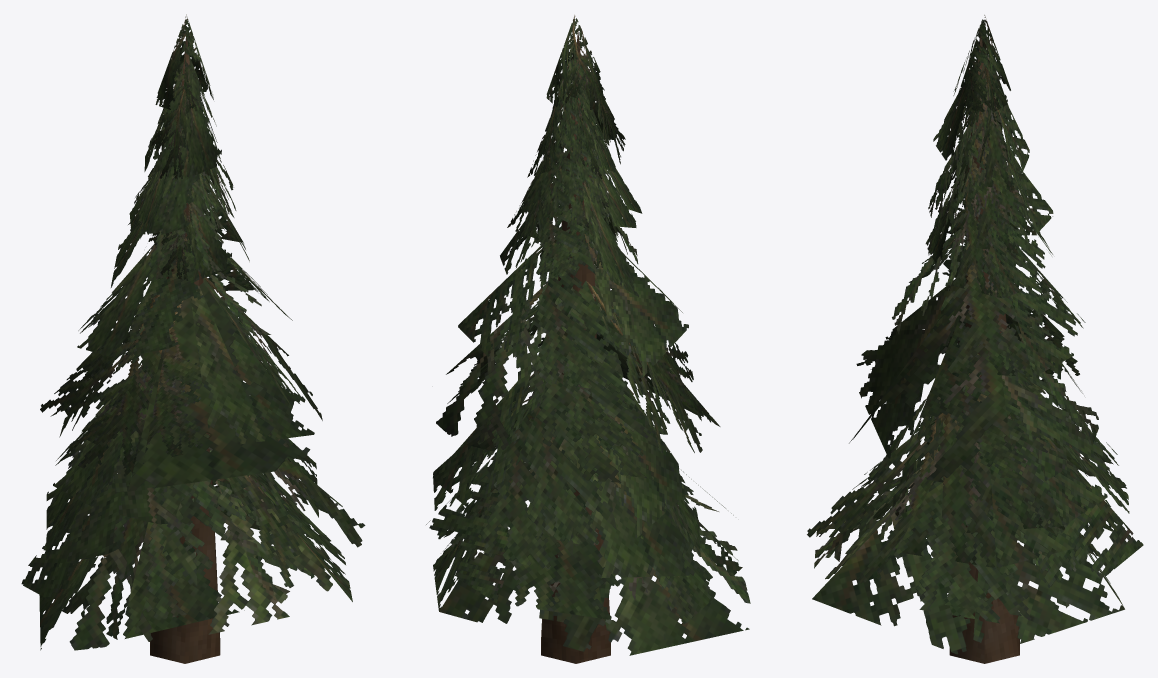
Rendered from tree_2.fbx.
3 views of the same model, side by side, from view 1: azimuth 30°, elevation 25°; view 2: azimuth 150°, elevation 25°; view 3: azimuth 270°, elevation 25° (orthographic).
Visible parts, largest first — view 1: tree_2; view 2: tree_2; view 3: tree_2.
Boxes of the visible parts, x1=… form: tree_2: x1=21, y1=14, x2=365, y2=663; tree_2: x1=426, y1=15, x2=750, y2=663; tree_2: x1=807, y1=15, x2=1143, y2=663.
Size of the model in its own units: 454 by 432 by 872.
